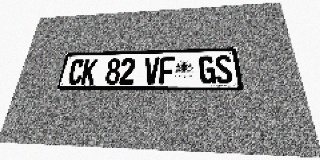2: (119, 58, 136, 84)
8: (105, 58, 122, 84)
C: (67, 59, 85, 85)
F: (159, 57, 174, 84)
G: (199, 56, 216, 84)
K: (80, 59, 98, 85)
S: (214, 55, 233, 84)
V: (144, 57, 159, 84)
